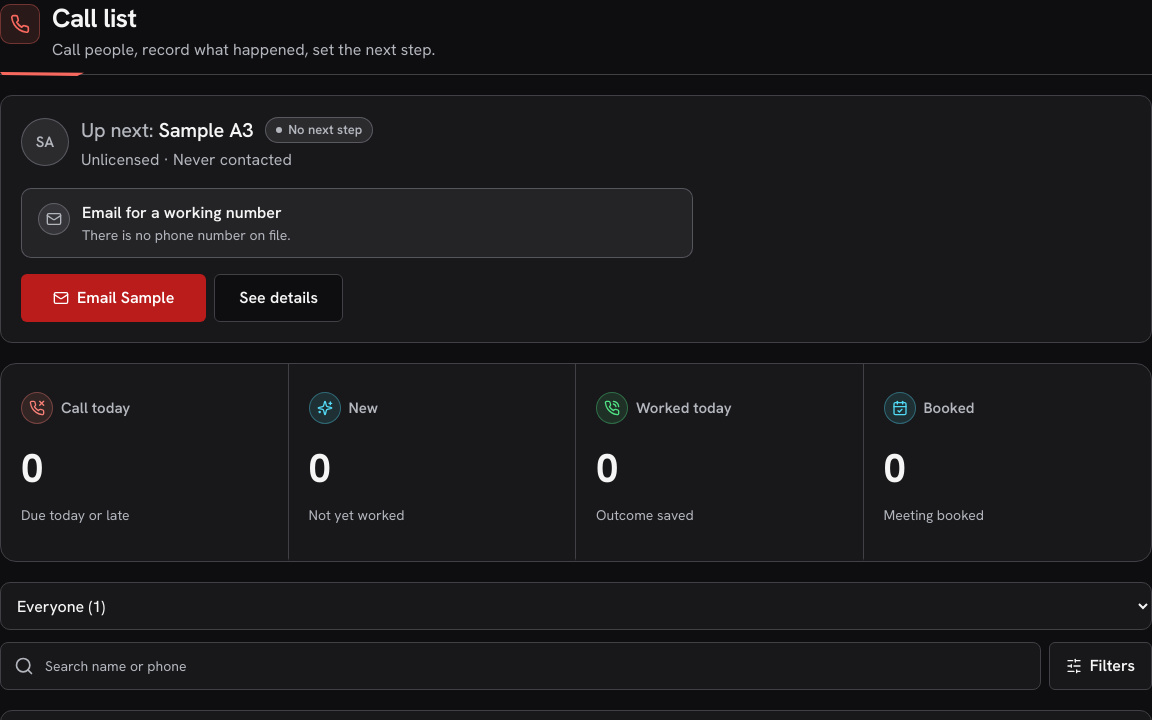
Test case: RecruitingWorklist Up next (OVERHAUL-calllist) › phone: See details opens the person without dialing; a person with no phone gets Email for a working number
Expected: the element named "What to do next" shows "Email for a working number", [82,202,282,223]
Click the button "See details" at (279, 298), box [214,274,343,322]
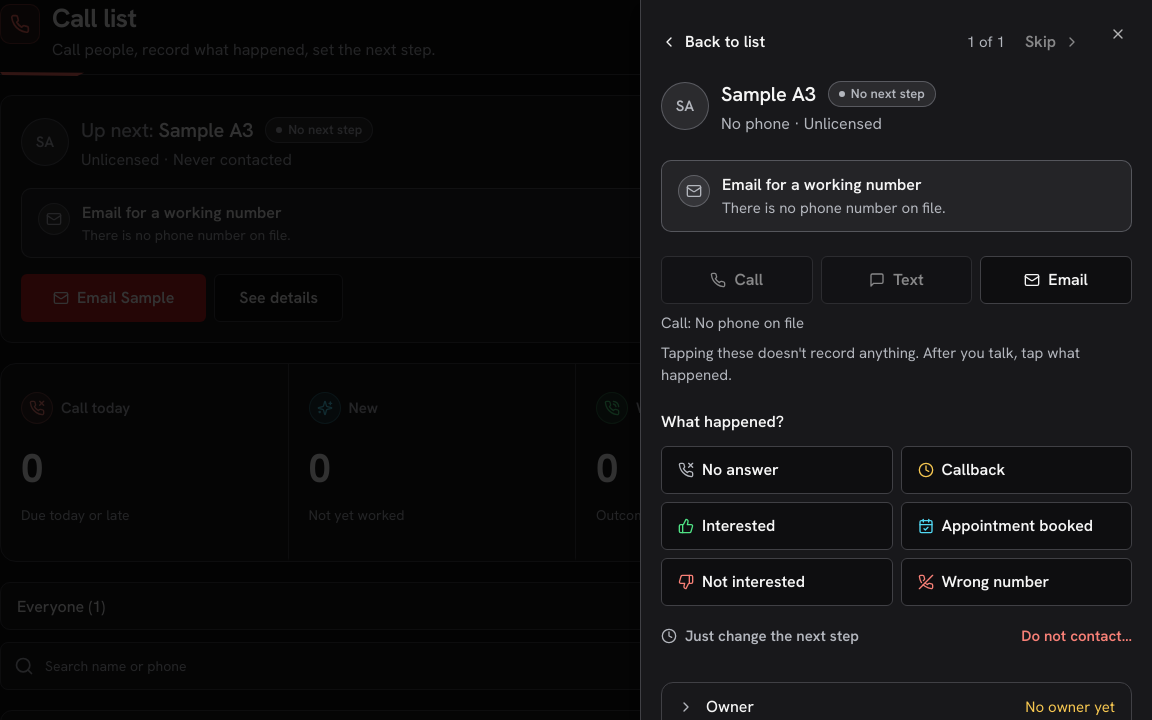
Now the dialog is shown, box [640,0,1151,719]
